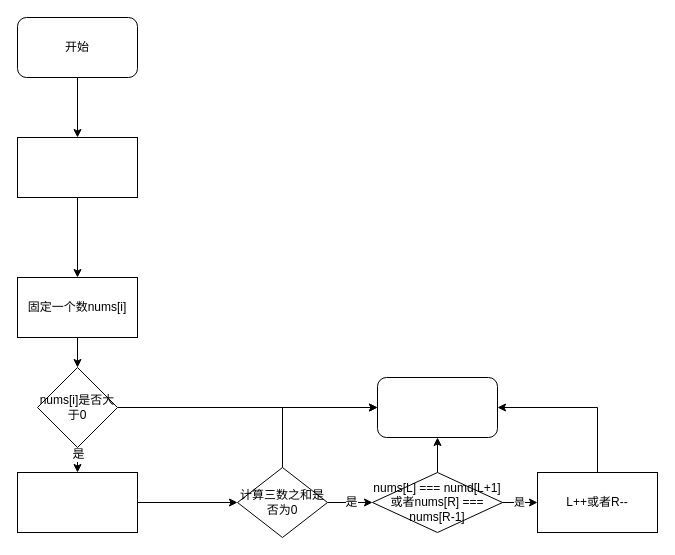
Some shapes in this 675 by 555 pixel diagram are drawn without their labels. Each missing label, with the centre of its shape:
左右指针指向nums[i]后面的两端，分别为nums[L]和nums[R]: point 77,502
数组排序: point 77,167
结束: point 437,407
